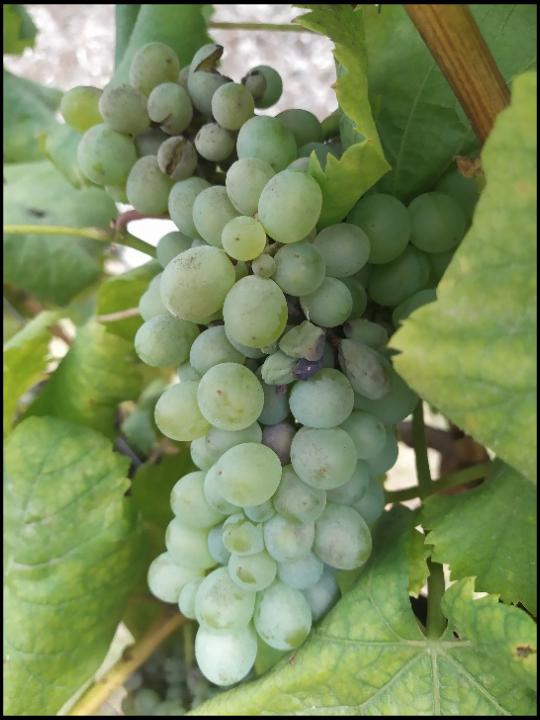grape: (74, 40, 467, 691)
